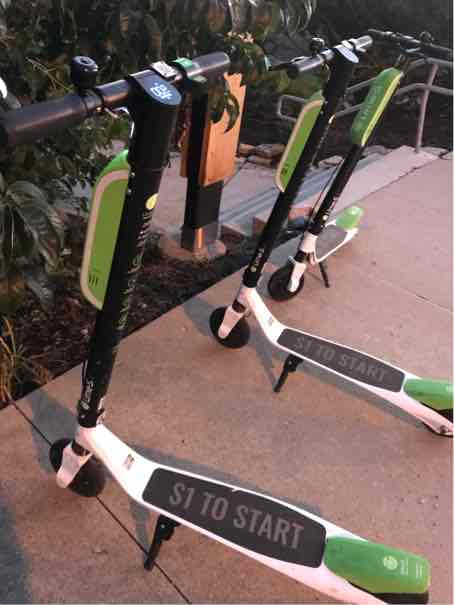scooter: (1, 46, 440, 605), (208, 39, 454, 438), (265, 30, 433, 304)
